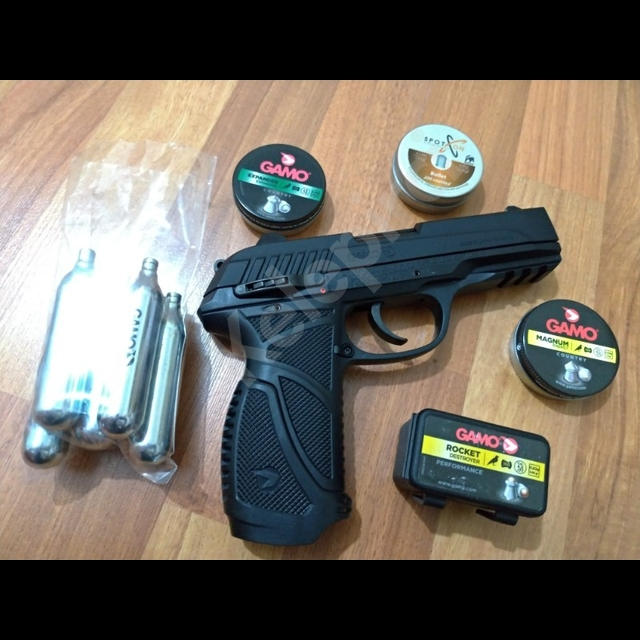SILAH: (198, 202, 547, 547)
